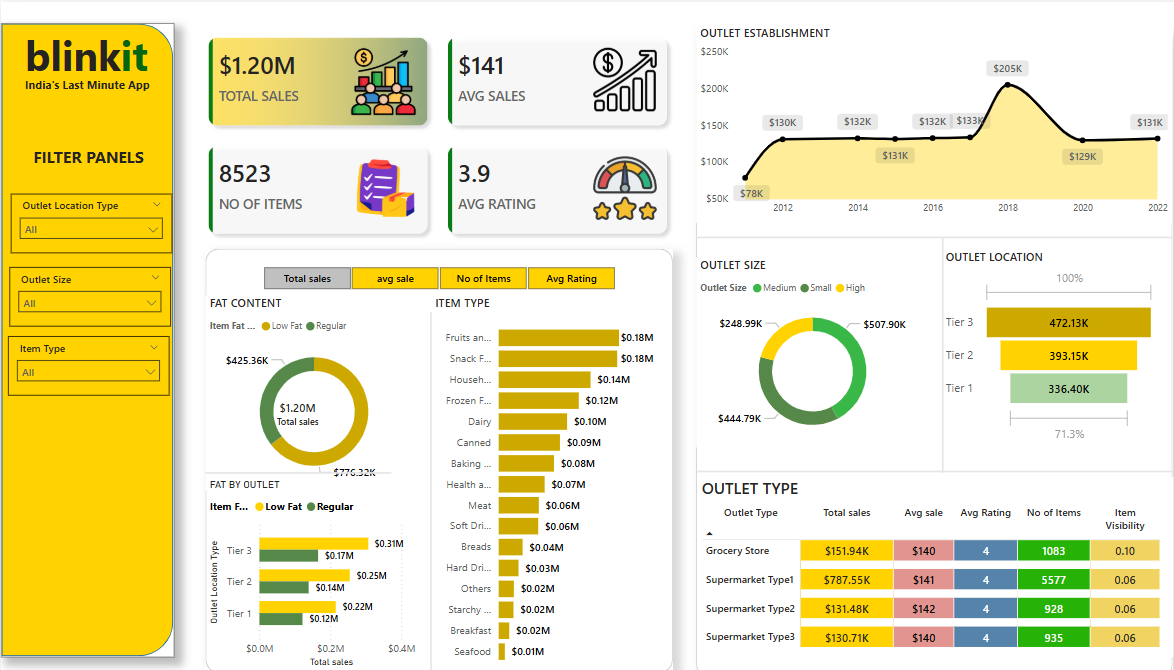

This screenshot's page, from the dashboard's own definition file:
{"tool":"powerbi","page":{"name":"Page 1","canvas":[1400,800],"ordinal":0},"visuals":[{"type":"shape","box":[0,25.4,204.9,749.7],"z":0},{"type":"textbox","box":[23.8,25.4,204.9,141.4],"z":1000},{"type":"textbox","box":[23.8,82.6,204.9,30.2],"z":2000},{"type":"cardVisual","fields":{"Data":["BlinkIT Grocery Data.Total sales","BlinkIT Grocery Data.avg sale","BlinkIT Grocery Data.No of Items","BlinkIT Grocery Data.Avg Rating"]},"box":[228.1,25,577.7,266.4],"z":3000},{"type":"shape","box":[241.4,291.4,552.7,501.1],"z":4000},{"type":"donutChart","title":"FAT CONTENT","fields":{"Y":["BlinkIT Grocery Data.Total sales"],"Category":["BlinkIT Grocery Data.Item Fat Content"]},"box":[241.5,346.5,257.1,230.3],"z":5000},{"type":"slicer","fields":{"Values":["Metrics .Metrics "]},"box":[284.7,306.3,464.5,40],"z":6000},{"type":"cardVisual","fields":{"Data":["BlinkIT Grocery Data.Total sales"]},"box":[281.4,429.5,138.2,113.2],"z":7000},{"type":"clusteredBarChart","title":"FAT BY OUTLET ","fields":{"Category":["BlinkIT Grocery Data.Outlet Location Type"],"Y":["BlinkIT Grocery Data.Total sales"],"Series":["BlinkIT Grocery Data.Item Fat Content"]},"box":[241.5,563.4,257.1,228],"z":7001},{"type":"shape","box":[241.4,542.8,219.8,26.6],"z":7002},{"type":"shape","box":[497.8,366.3,20,426.2],"z":7004},{"type":"barChart","title":"ITEM TYPE","fields":{"Category":["BlinkIT Grocery Data.Item Type"],"Y":["BlinkIT Grocery Data.Total sales"]},"box":[507.8,346.3,268,446.2],"z":7005},{"type":"shape","box":[822.2,30.9,563.3,768.5],"z":7006},{"type":"lineChart","title":"OUTLET ESTABLISHMENT","fields":{"Category":["BlinkIT Grocery Data.Outlet Establishment Year"],"Y":["BlinkIT Grocery Data.Total sales"]},"box":[822.5,26.6,562.7,234.8],"z":7007},{"type":"shape","box":[822.5,264.7,562.7,26.6],"z":7008},{"type":"donutChart","title":"OUTLET SIZE","fields":{"Y":["BlinkIT Grocery Data.Total sales"],"Category":["BlinkIT Grocery Data.Outlet Size"]},"box":[822.2,301.2,275,225],"z":7009},{"type":"shape","box":[1097.5,277.7,29.9,277.7],"z":7011},{"type":"funnel","title":"OUTLET LOCATION","fields":{"Category":["BlinkIT Grocery Data.Outlet Location Type"],"Y":["Sum(BlinkIT Grocery Data.Sales)"]},"box":[1112.5,291,257.8,234.5],"z":7012},{"type":"shape","box":[823.1,542.1,562.1,26.6],"z":7013},{"type":"pivotTable","title":"OUTLET TYPE ","fields":{"Values":["BlinkIT Grocery Data.Total sales","BlinkIT Grocery Data.Avg sale","BlinkIT Grocery Data.Avg Rating","BlinkIT Grocery Data.No of Items","Avg(BlinkIT Grocery Data.Item Visibility)"],"Rows":["BlinkIT Grocery Data.Outlet Type"]},"box":[823.1,562.1,562.1,212.9],"z":7014},{"type":"slicer","fields":{"Values":["BlinkIT Grocery Data.Outlet Location Type"]},"box":[11.4,226.3,190.5,70],"z":7015},{"type":"slicer","fields":{"Values":["BlinkIT Grocery Data.Outlet Size"]},"box":[9.8,312.6,190.5,70],"z":7016},{"type":"slicer","fields":{"Values":["BlinkIT Grocery Data.Item Type"]},"box":[8.1,395.6,190.5,70],"z":7017},{"type":"textbox","box":[8.9,165.4,190,42.5],"z":7018}]}

Visuals, with their boxes in screenshot pixels (x1, y1, x2, y2), scaled from the page's 1400x800 canvas onto the 1174x670 screenshot:
shape: bbox=[0, 21, 172, 649]
textbox: bbox=[20, 21, 192, 140]
textbox: bbox=[20, 69, 192, 94]
cardVisual - BlinkIT Grocery Data.Total sales x BlinkIT Grocery Data.avg sale: bbox=[191, 21, 676, 244]
shape: bbox=[202, 244, 666, 664]
"FAT CONTENT" donutChart: bbox=[203, 290, 418, 483]
slicer - Metrics .Metrics : bbox=[239, 257, 628, 290]
cardVisual - BlinkIT Grocery Data.Total sales: bbox=[236, 360, 352, 455]
"FAT BY OUTLET " clusteredBarChart: bbox=[203, 472, 418, 663]
shape: bbox=[202, 455, 387, 477]
shape: bbox=[417, 307, 434, 664]
"ITEM TYPE" barChart: bbox=[426, 290, 651, 664]
shape: bbox=[689, 26, 1162, 669]
"OUTLET ESTABLISHMENT" lineChart: bbox=[690, 22, 1162, 219]
shape: bbox=[690, 222, 1162, 244]
"OUTLET SIZE" donutChart: bbox=[689, 252, 920, 441]
shape: bbox=[920, 233, 945, 465]
"OUTLET LOCATION" funnel: bbox=[933, 244, 1149, 440]
shape: bbox=[690, 454, 1162, 476]
"OUTLET TYPE " pivotTable: bbox=[690, 471, 1162, 649]
slicer - BlinkIT Grocery Data.Outlet Location Type: bbox=[10, 190, 169, 248]
slicer - BlinkIT Grocery Data.Outlet Size: bbox=[8, 262, 168, 320]
slicer - BlinkIT Grocery Data.Item Type: bbox=[7, 331, 167, 390]
textbox: bbox=[7, 139, 167, 174]
